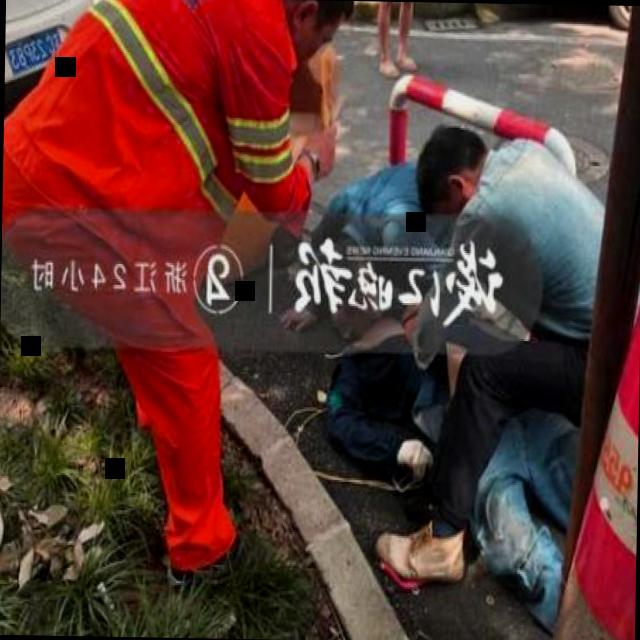Fall-Detected: (282, 139, 474, 506)
